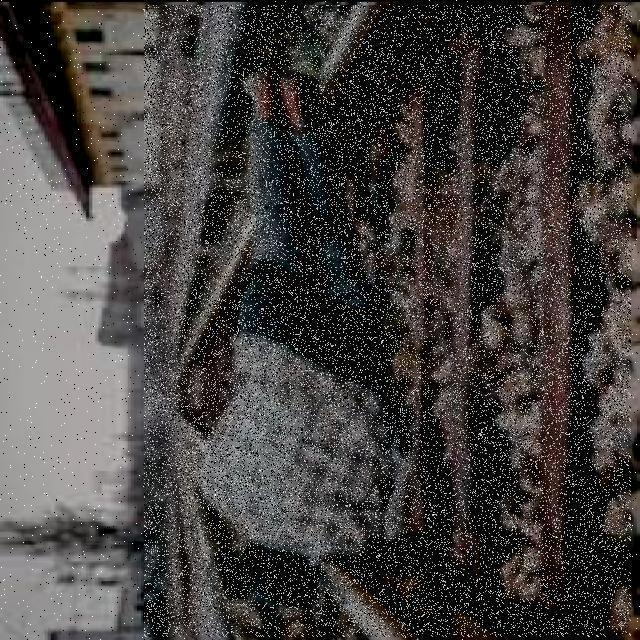rail: (145, 6, 631, 637)
